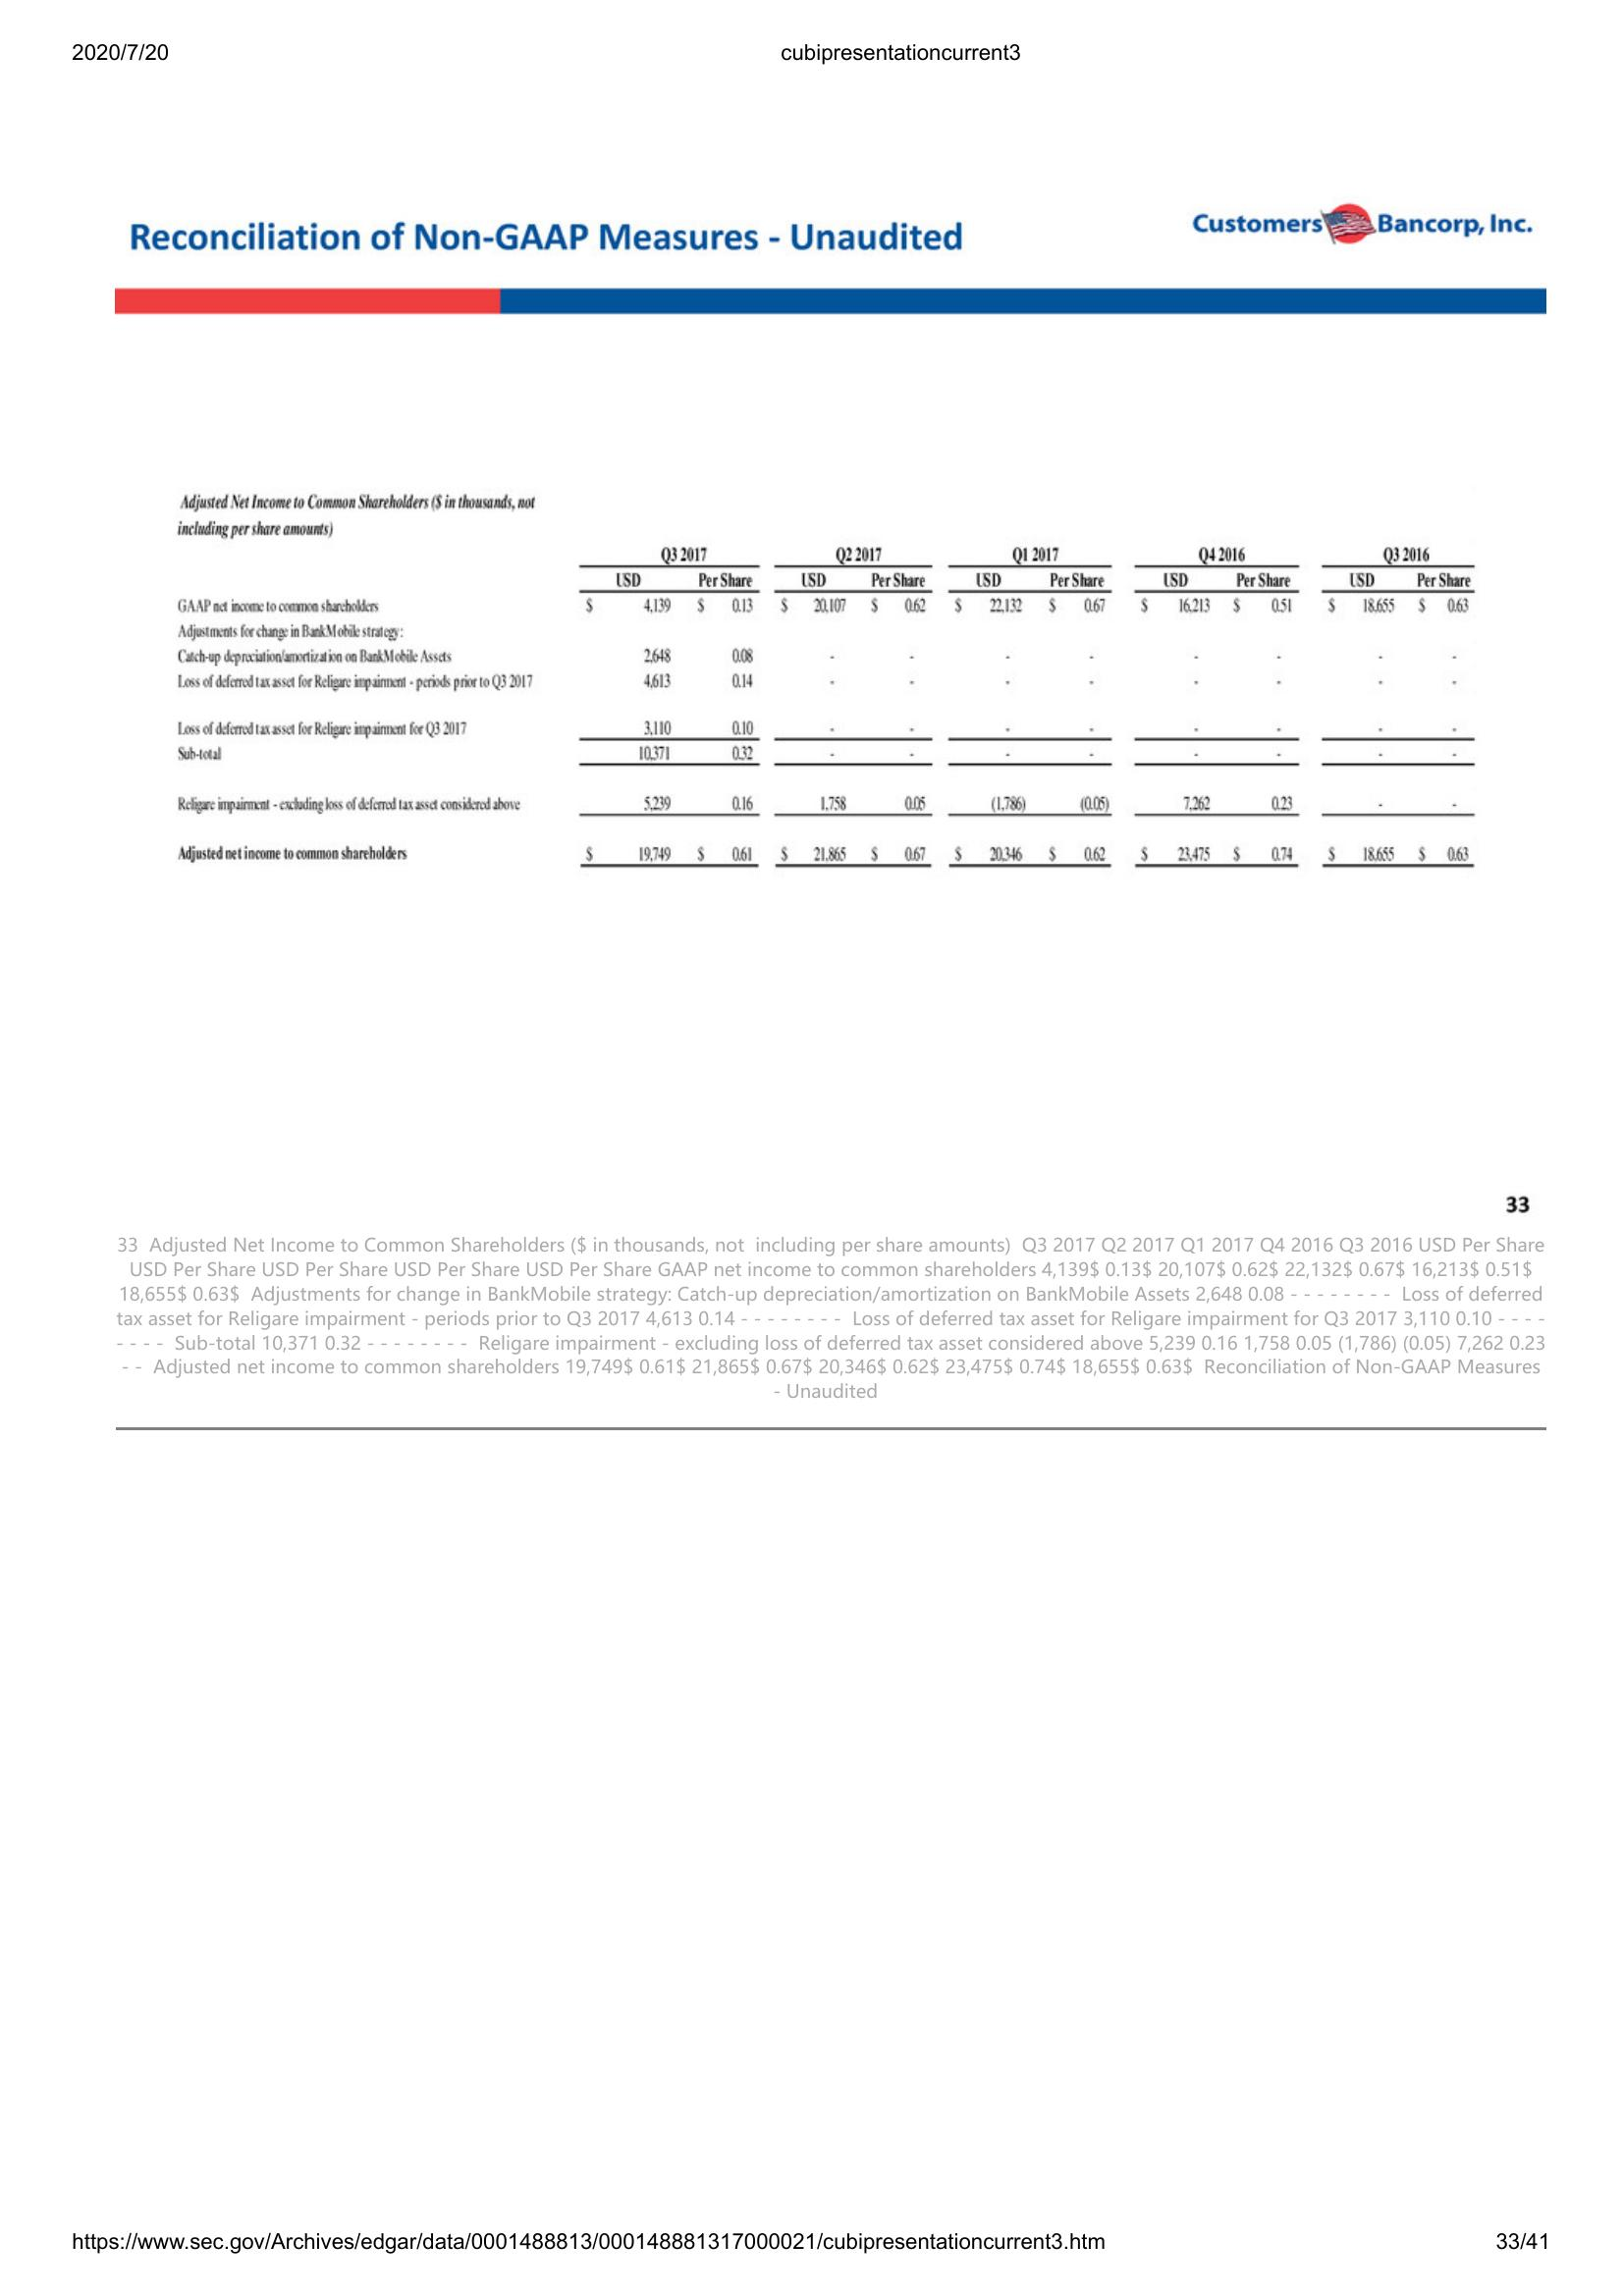table: (169, 479, 1488, 874)
